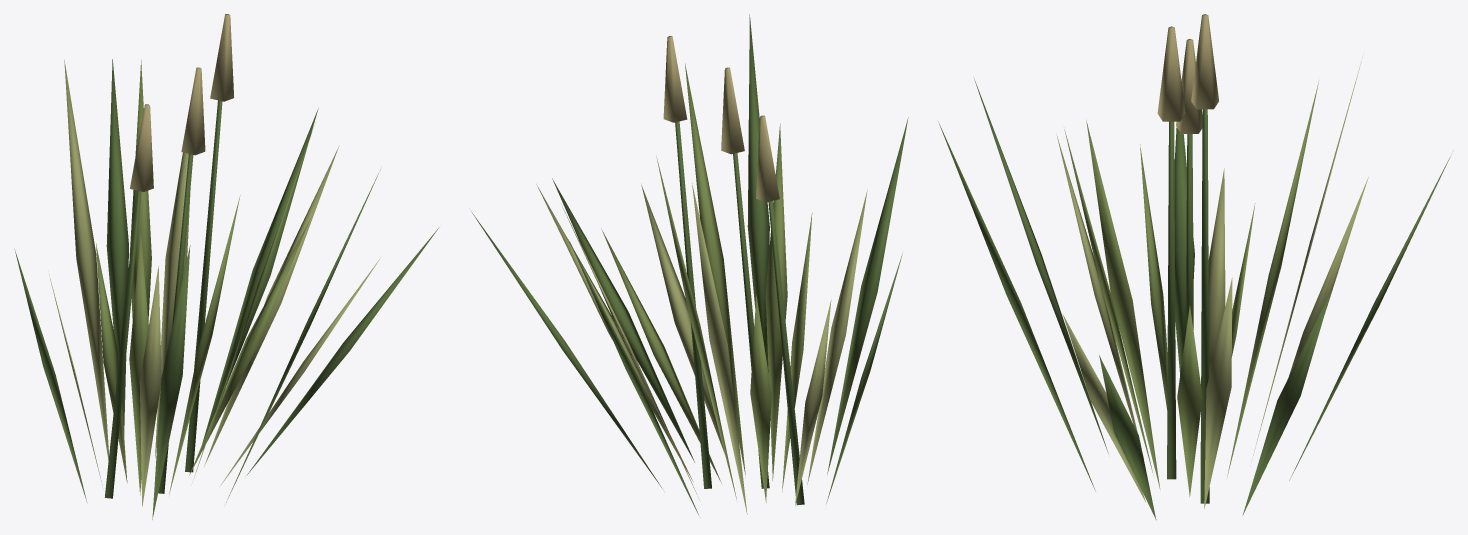
Rendered from coast_grass_a.glb.
3 views of the same model, side by side, from view 1: azimuth 30°, elevation 25°; view 2: azimuth 150°, elevation 25°; view 3: azimuth 270°, elevation 25° (orthographic). The views are drawn at different scales.
Visible parts, largest first — view 1: coast_grass_a; view 2: coast_grass_a; view 3: coast_grass_a.
Boxes of the visible parts, left/top/right/bottom form: coast_grass_a: left=14, top=14, right=439, bottom=519; coast_grass_a: left=471, top=14, right=908, bottom=514; coast_grass_a: left=938, top=14, right=1450, bottom=520.
Size of the model in its own units: 0.7657 by 0.8358 by 0.7704.
